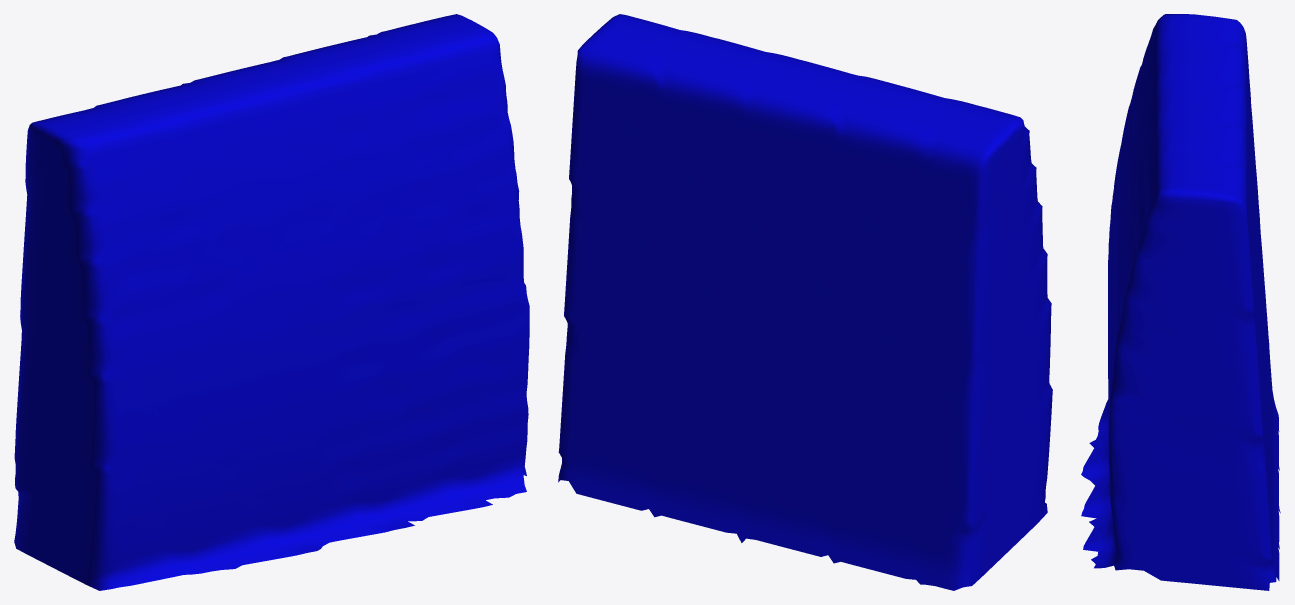
The picture shows the model from 3 angles, left to right: view 1: azimuth 30°, elevation 25°; view 2: azimuth 150°, elevation 25°; view 3: azimuth 270°, elevation 25°; orthographic projection. The views are drawn at different scales.
Bounding box in the file's own units: 0.8794 × 0.8916 × 0.3961.
